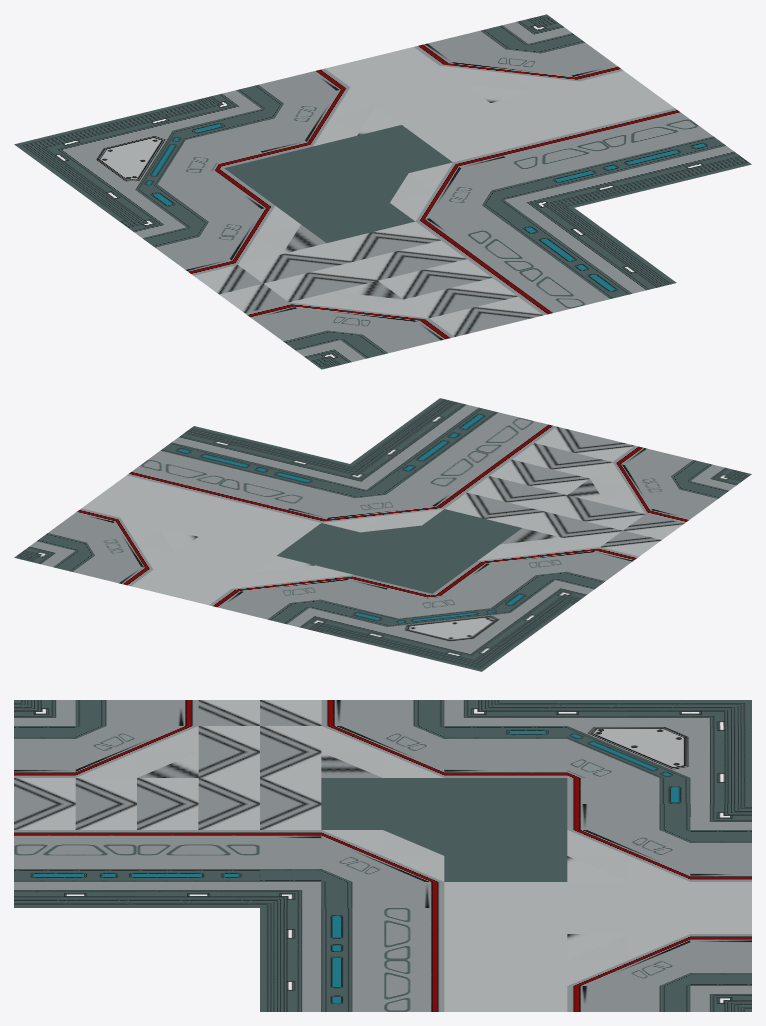
The model's file is CorridorIntersection.fbx.
3 views of the same model, one above another, from view 1: azimuth 30°, elevation 25°; view 2: azimuth 150°, elevation 25°; view 3: azimuth 270°, elevation 25° (orthographic). The views are drawn at different scales.
Parts seen in each view (by area): view 1: Cube.037; view 2: Cube.037; view 3: Cube.037.
Part boxes in pixels (left/top/right/bottom): Cube.037: left=14, top=14, right=751, bottom=369; Cube.037: left=14, top=398, right=751, bottom=671; Cube.037: left=14, top=700, right=751, bottom=1011.
Bounding box in the file's own units: 900 × 900 × 0.
